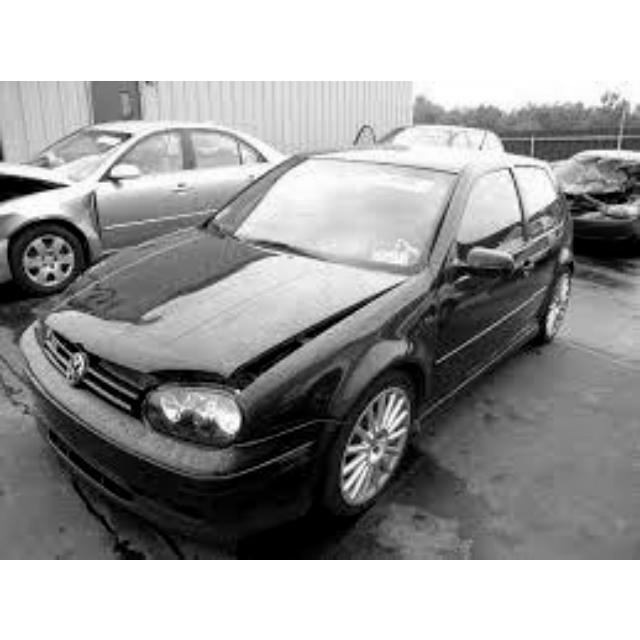boot-dent: (72, 246, 351, 376)
